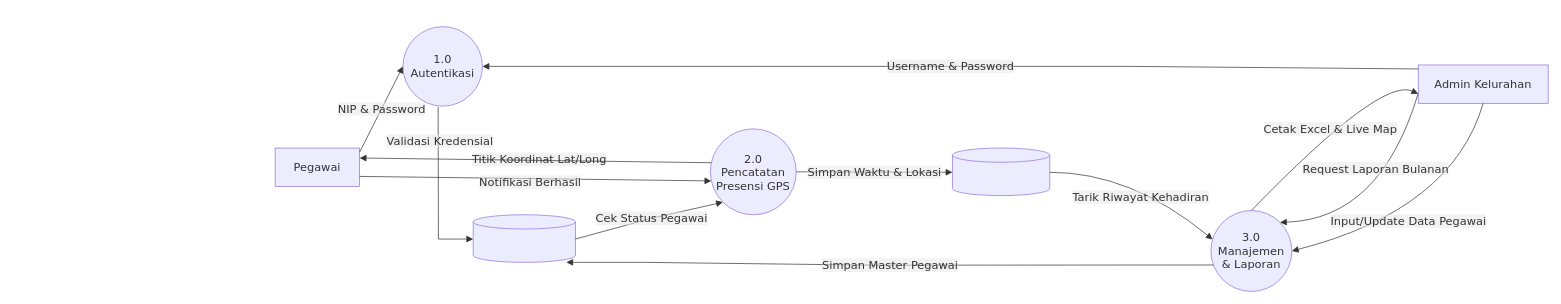
This 1561x304 diagram has some shape labels left out. Here are the shapes that lost their labels. From the top down, the box of each, then its label:
(952, 147, 1050, 196): D2: data_absensi
(473, 214, 575, 262): D1: data_pegawai
